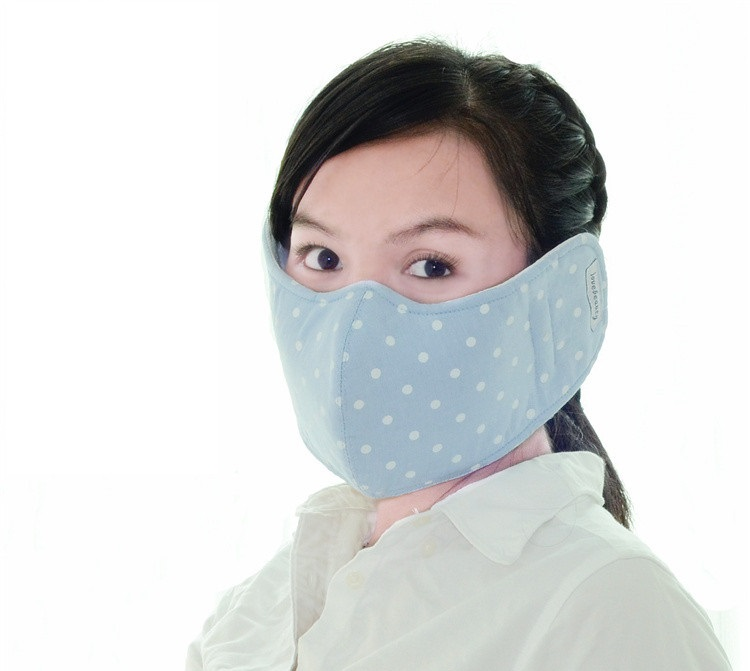face_mask: (286, 143, 509, 476)
